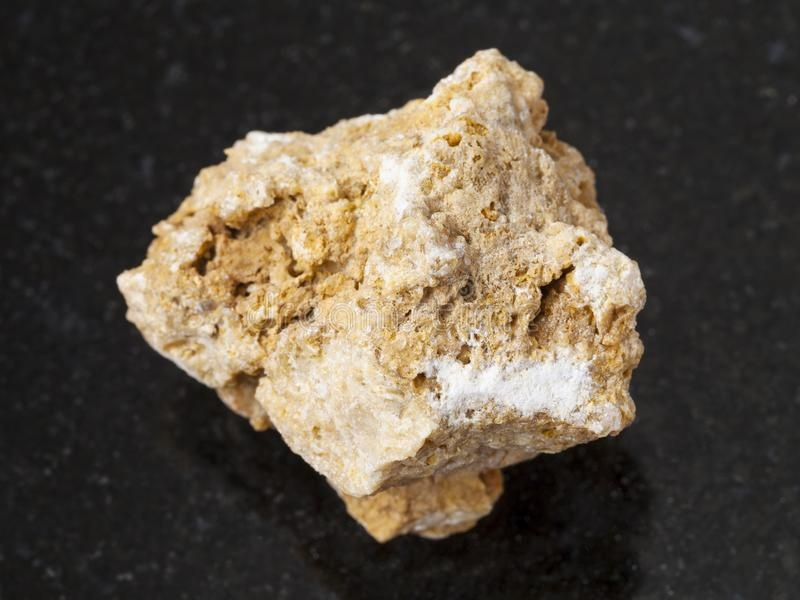obstacle: (118, 49, 644, 540)
